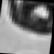correct: (0, 0, 54, 44)
